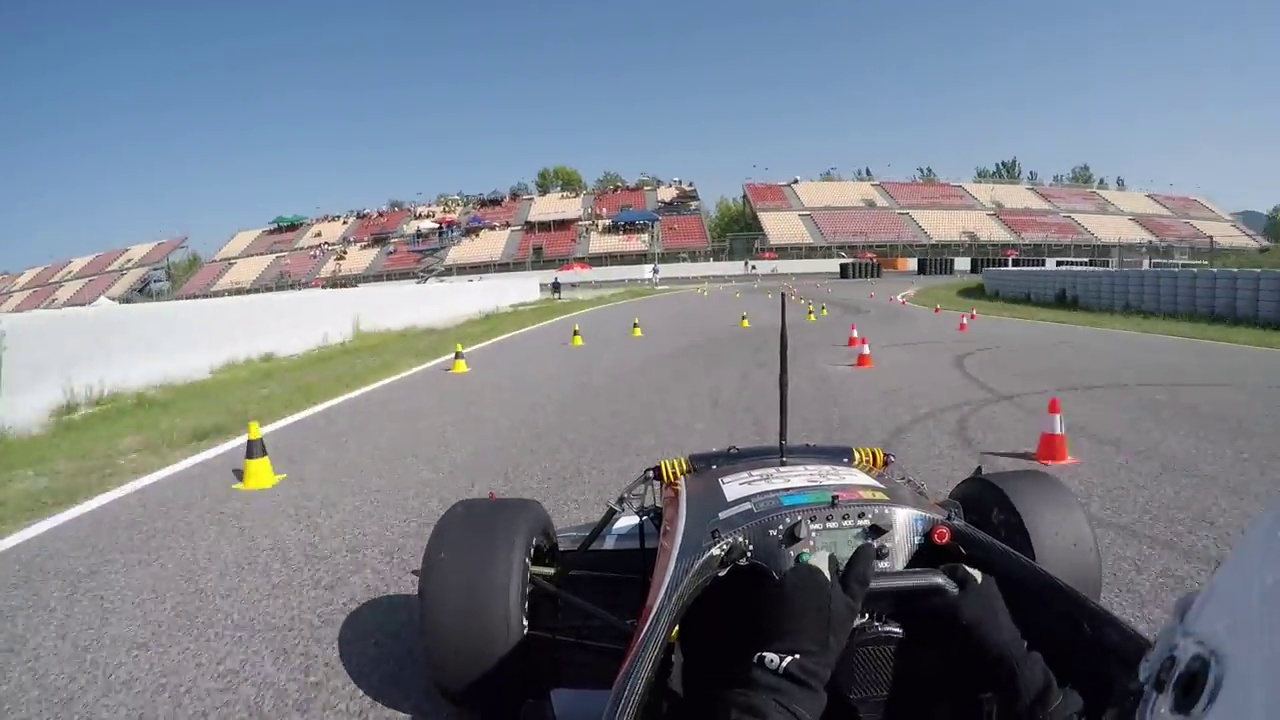Cone: (1032, 394, 1077, 464), (236, 417, 280, 488), (448, 341, 470, 375), (856, 334, 876, 368)
